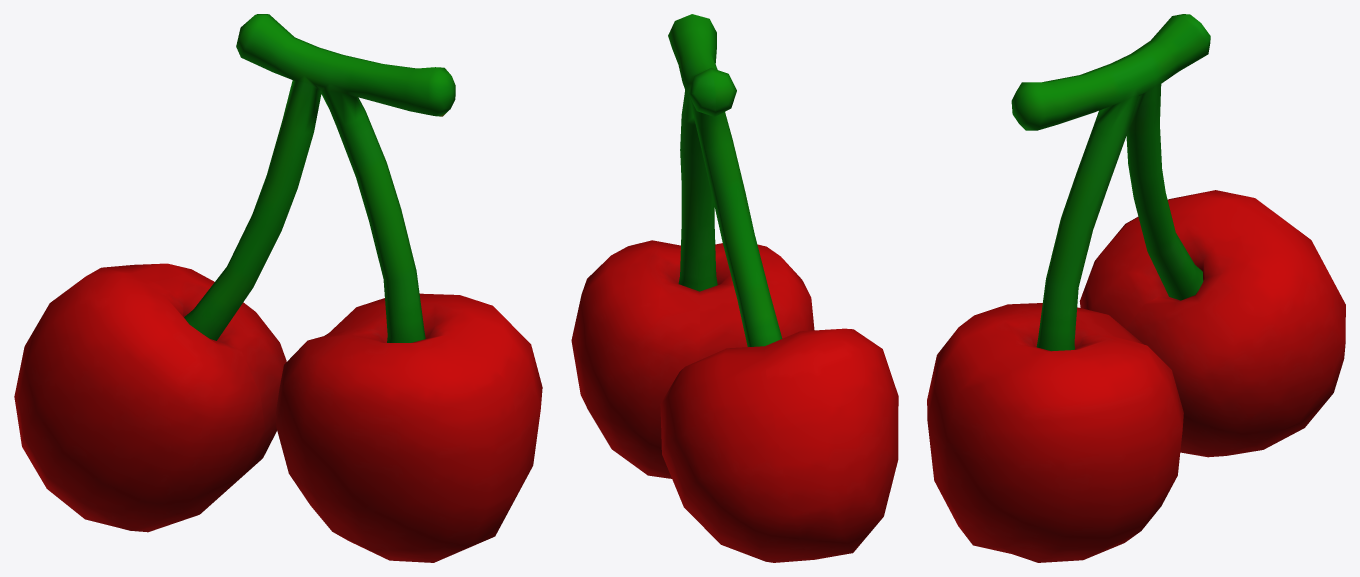
File: cherries.glb
The picture shows the model from 3 angles, left to right: view 1: azimuth 30°, elevation 25°; view 2: azimuth 150°, elevation 25°; view 3: azimuth 270°, elevation 25°; orthographic projection. The views are drawn at different scales.
Parts seen in each view (by area): view 1: Cherries; view 2: Cherries; view 3: Cherries.
Boxes of the visible parts, x1,y1,x2,y2 form: Cherries: (14, 14, 542, 562); Cherries: (571, 14, 898, 562); Cherries: (927, 14, 1345, 562).
Bounding box in the file's own units: 5.46 × 6.43 × 4.91.
1 material, 1 textured.
